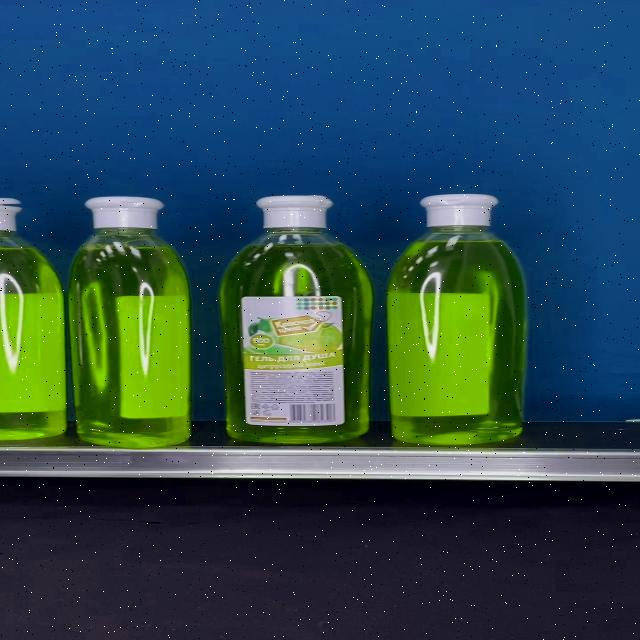Bottle: (220, 195, 373, 442), (386, 193, 526, 445), (68, 197, 192, 447)
Cap: (419, 193, 501, 227), (256, 195, 336, 228), (86, 197, 164, 230)
